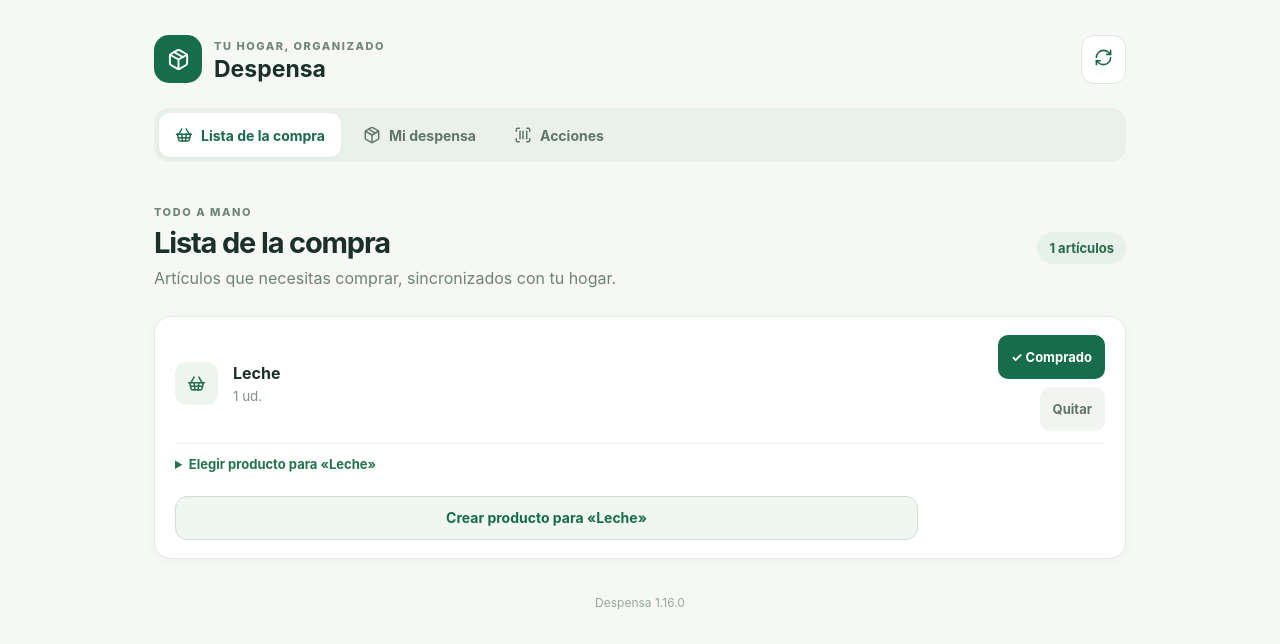
Test: keeps an ambiguous Alexa suggestion visible after a stale choice is rejected
Click the heading "Elegir producto para «Leche»" at (282, 464), box x1=189 y1=456 x2=376 y2=472
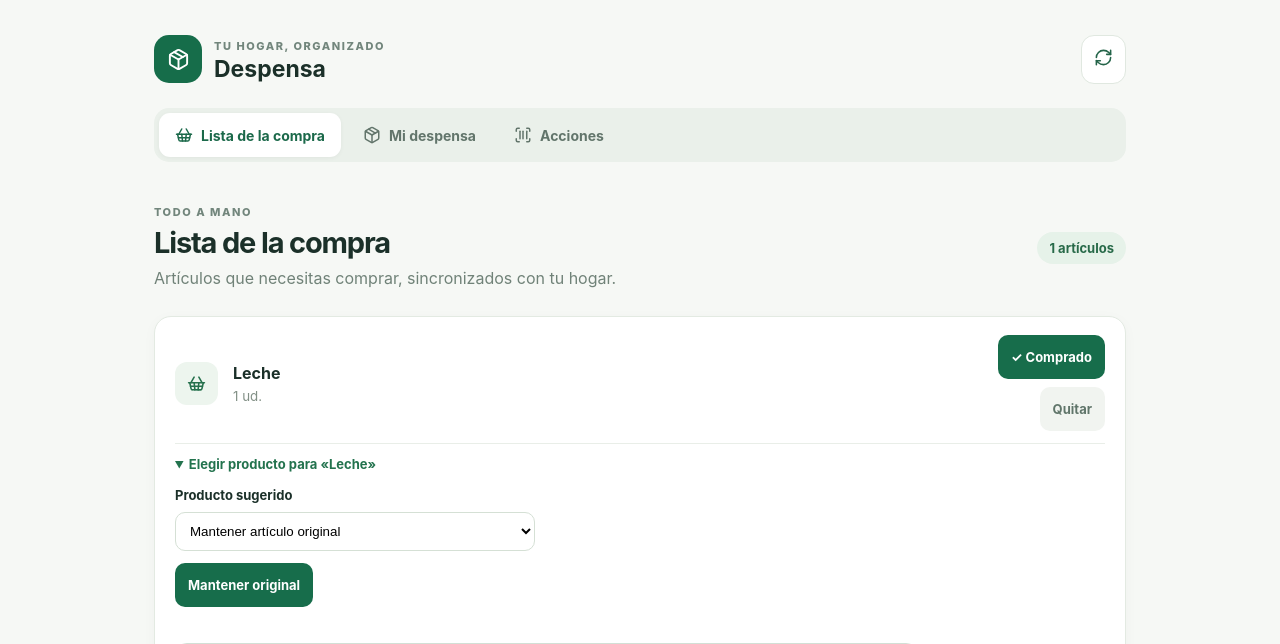
Select "Leche entera" in the dropdown labelled "Producto sugerido" at (355, 532), box x1=175 y1=512 x2=535 y2=551
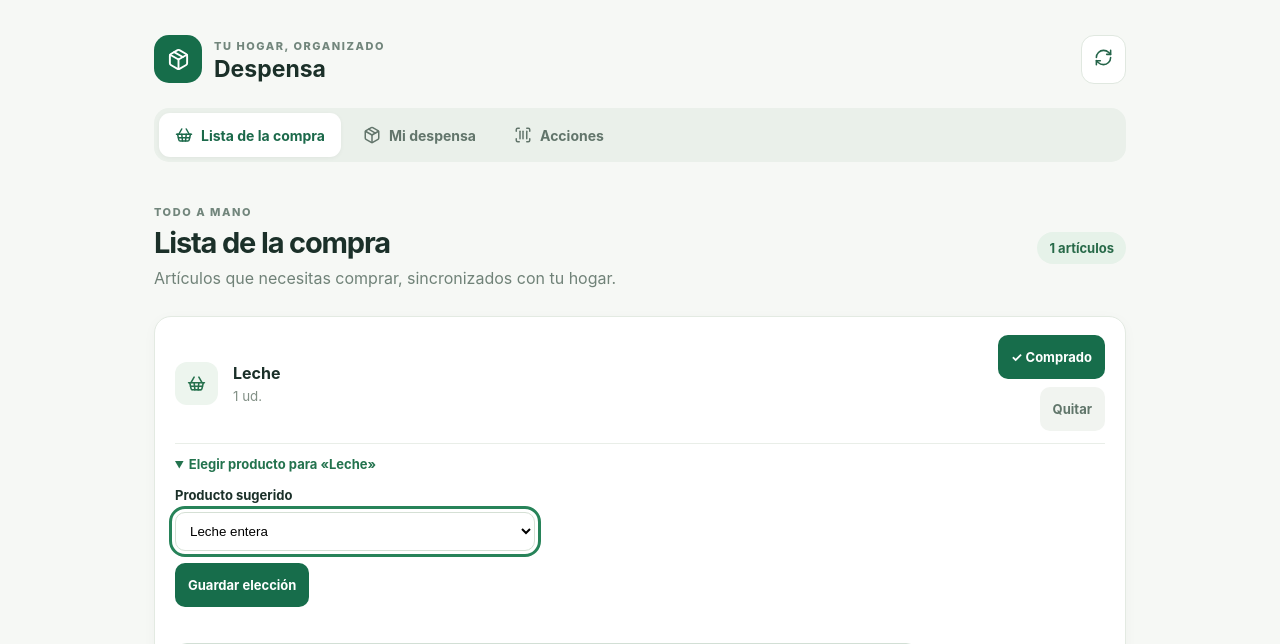
Click the button "Guardar elección" at (242, 585), box x1=175 y1=563 x2=309 y2=607
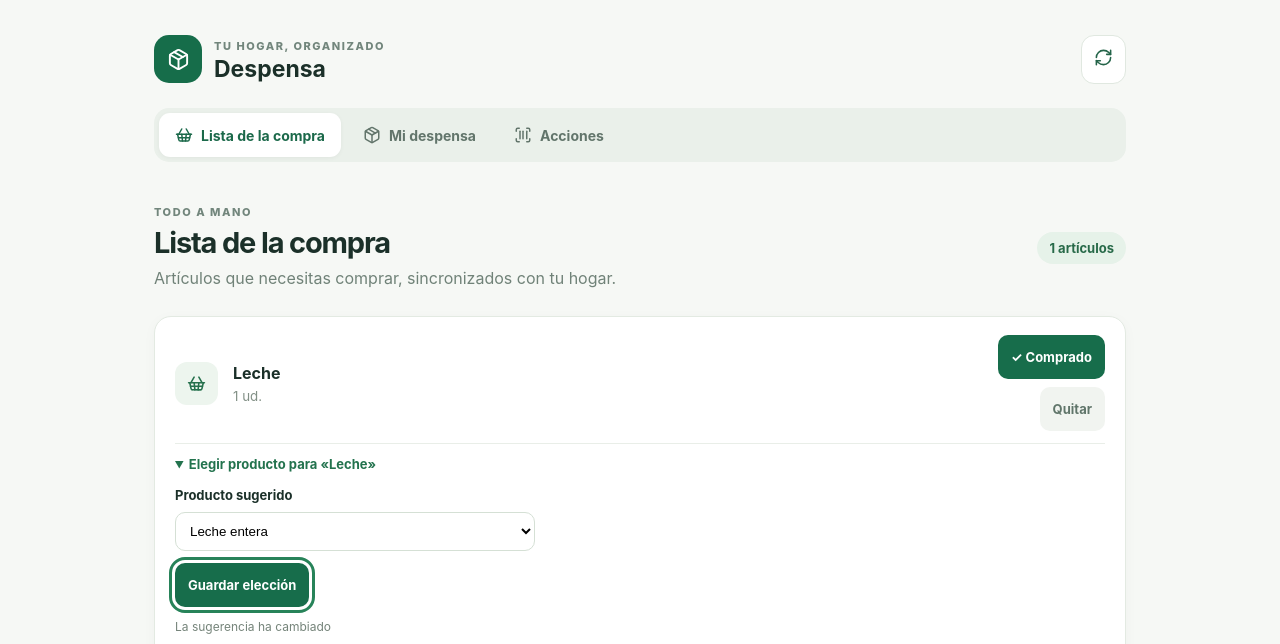
Result: the message "La sugerencia ha cambiado" is shown at x1=175 y1=619 x2=331 y2=634
